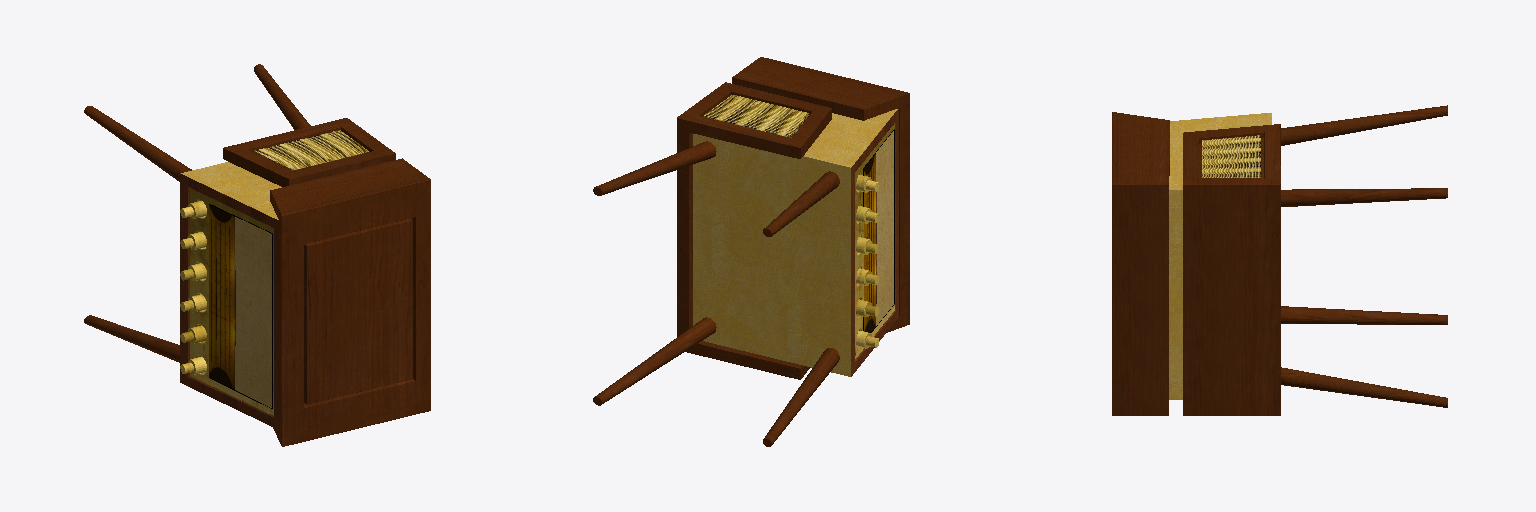
3 views of the same model, side by side, from view 1: azimuth 30°, elevation 25°; view 2: azimuth 150°, elevation 25°; view 3: azimuth 270°, elevation 25° (orthographic).
Visible parts, largest first — view 1: 20347_Radiogram__furniture__V2; view 2: 20347_Radiogram__furniture__V2; view 3: 20347_Radiogram__furniture__V2.
Boxes of the visible parts, <box> form: 20347_Radiogram__furniture__V2: <box>84,64,430,446</box>; 20347_Radiogram__furniture__V2: <box>593,57,909,446</box>; 20347_Radiogram__furniture__V2: <box>1112,105,1447,415</box>.
Bounding box in the file's own units: 4.89 × 5.94 × 7.8.
Materials: 1 (1 with a texture image).